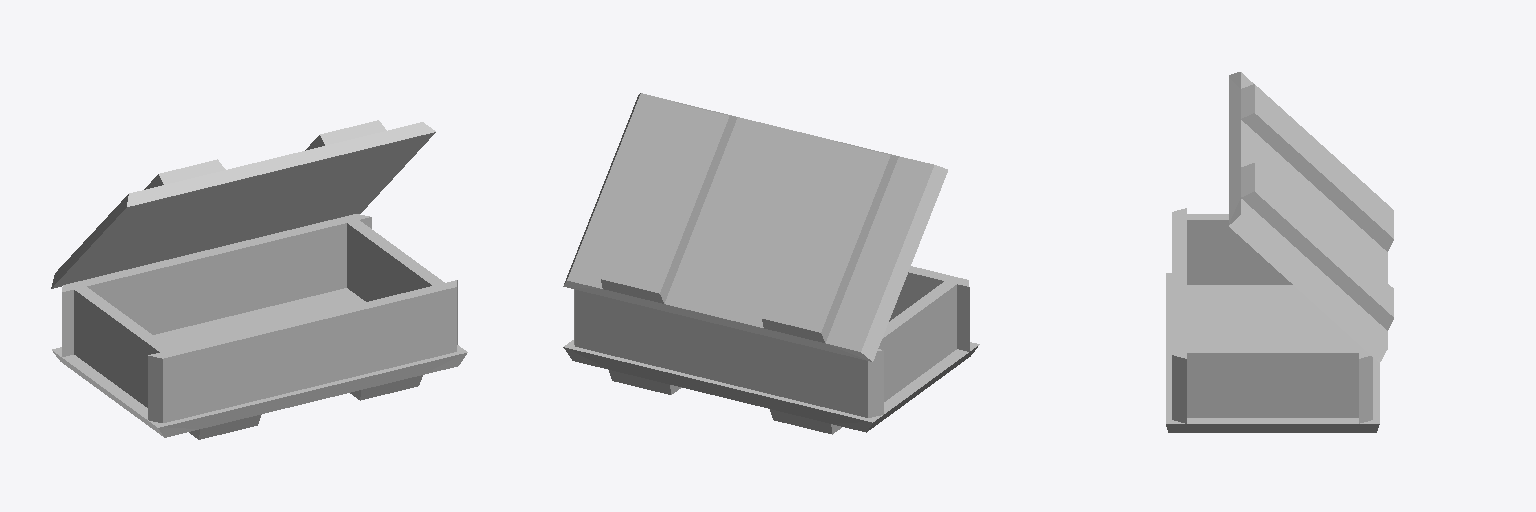
File: Crate-02.obj
The picture shows the model from 3 angles: view 1: azimuth 30°, elevation 25°; view 2: azimuth 150°, elevation 25°; view 3: azimuth 270°, elevation 25°; orthographic projection.
Parts seen in each view (by area): view 1: Crate_02; view 2: Crate_02; view 3: Crate_02.
Part boxes in pixels (bbox=[...]): Crate_02: bbox=[51, 120, 467, 439]; Crate_02: bbox=[563, 93, 979, 434]; Crate_02: bbox=[1166, 72, 1393, 432].
Size of the model in its own units: 0.375 by 0.2736 by 0.2395.